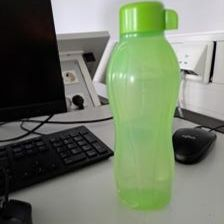bottle: (106, 1, 187, 213)
